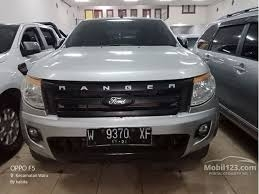plate: (86, 128, 153, 145)
